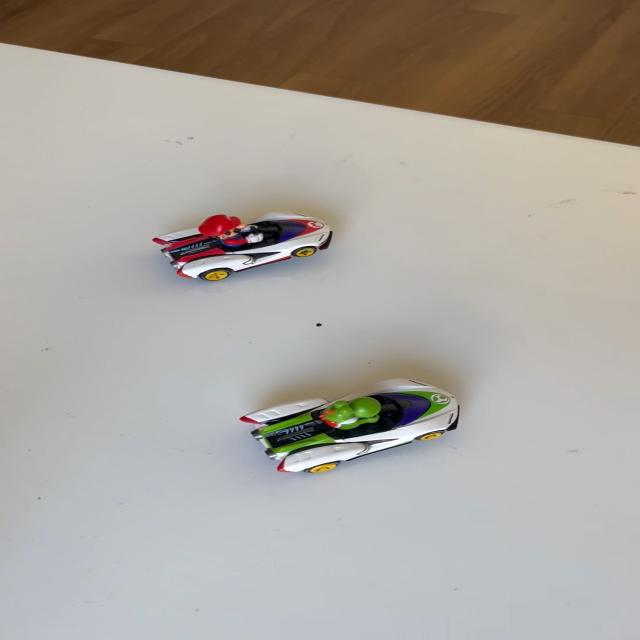mario: (140, 208, 347, 288)
yoshi: (226, 376, 476, 480)
